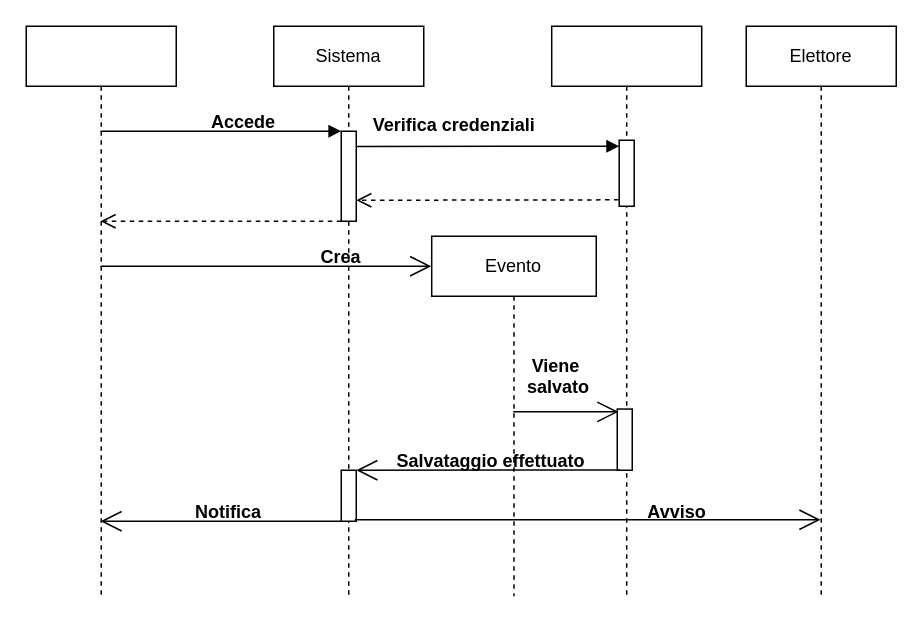
This 923x623 diagram has some shape labels left out. Each missing label, with the box of its shape:
Amministratore: (25, 25, 176, 596)
Database: (550, 25, 702, 596)
